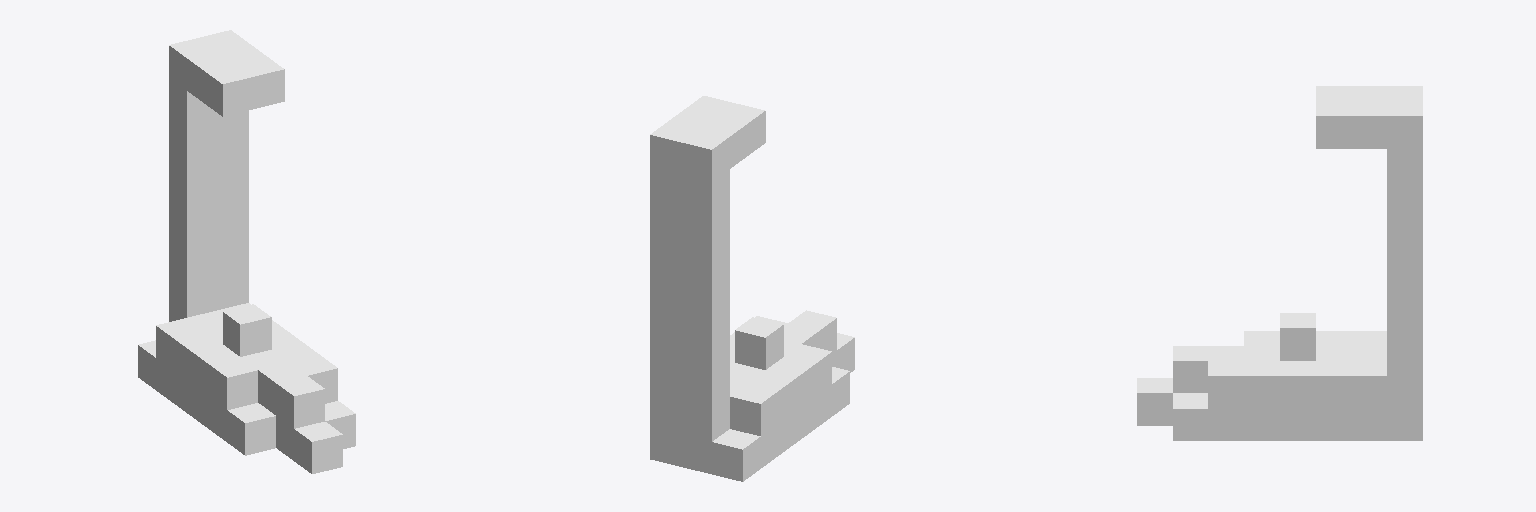
The model's file is leg.obj.
The picture shows the model from 3 angles: view 1: azimuth 30°, elevation 25°; view 2: azimuth 150°, elevation 25°; view 3: azimuth 270°, elevation 25°; orthographic projection.
Visible parts, largest first — view 1: Crow; view 2: Crow; view 3: Crow.
Boxes of the visible parts, x1=… form: Crow: x1=138, y1=30, x2=355, y2=473; Crow: x1=650, y1=96, x2=854, y2=481; Crow: x1=1137, y1=86, x2=1422, y2=440.
Bounding box in the file's own units: 0.3 × 1 × 0.8.